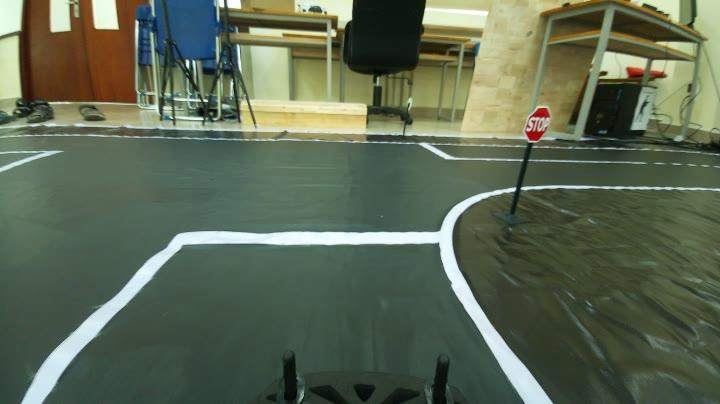stop: (521, 101, 556, 146)
